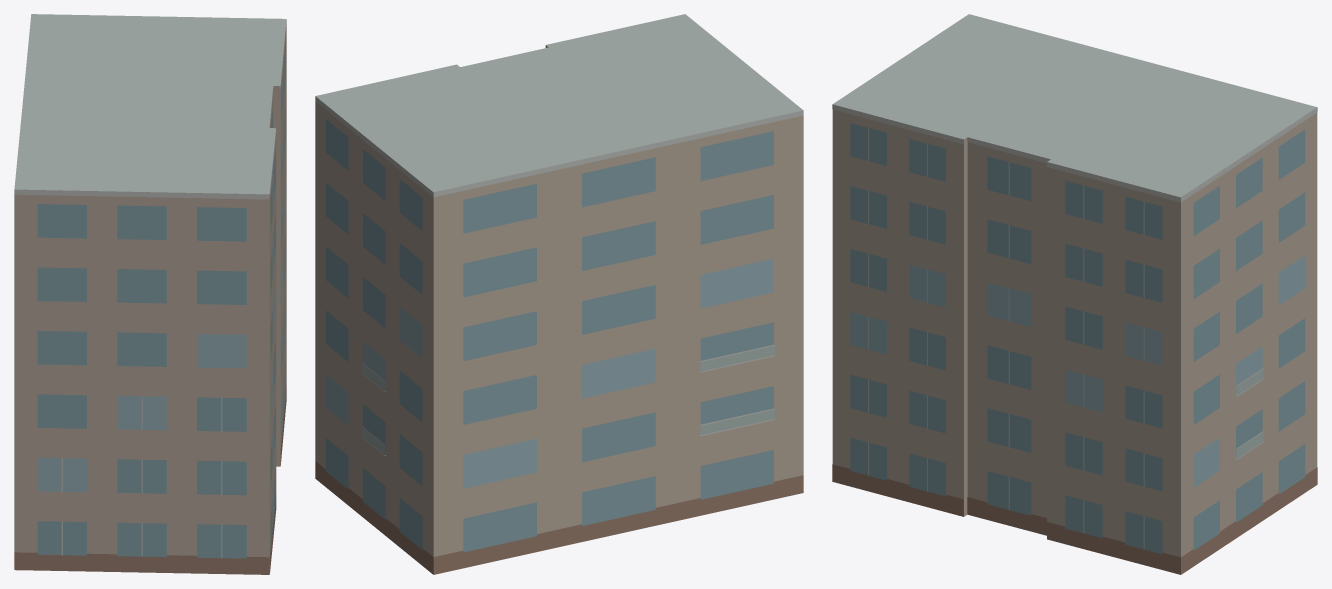
File: survey-upis-32963740.glb
3 renders of one model, left to right at view 1: azimuth 30°, elevation 25°; view 2: azimuth 150°, elevation 25°; view 3: azimuth 270°, elevation 25°, orthographic.
Parts seen in each view (by area): view 1: survey-upis-32963740.tmp; view 2: survey-upis-32963740.tmp; view 3: survey-upis-32963740.tmp.
Boxes of the visible parts, <box> form: survey-upis-32963740.tmp: <box>14,14,286,574</box>; survey-upis-32963740.tmp: <box>315,14,803,574</box>; survey-upis-32963740.tmp: <box>832,14,1317,574</box>.
Bounding box in the file's own units: 19.09 × 18.3 × 21.32.
